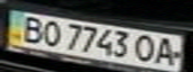3: (112, 28, 133, 60)
4: (93, 26, 115, 57)
7: (60, 21, 84, 52), (78, 24, 100, 54)
A: (151, 35, 184, 66)
B: (15, 14, 48, 43)
O: (36, 17, 66, 47), (130, 33, 160, 63)
